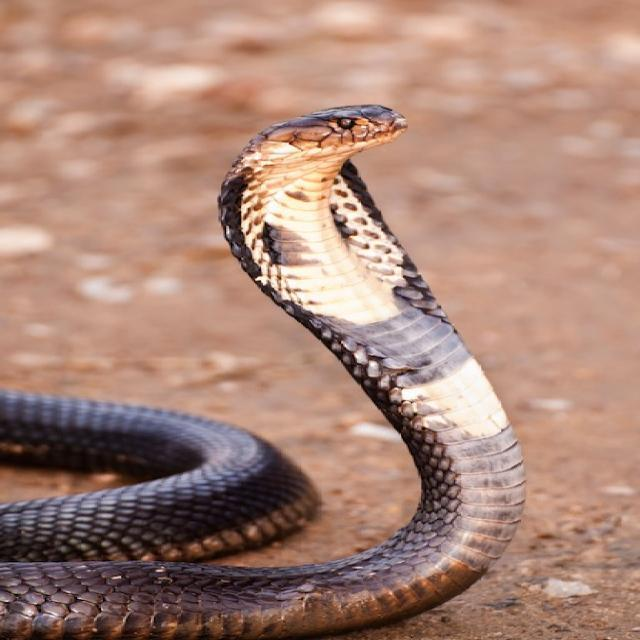Snake: (0, 102, 528, 640)
